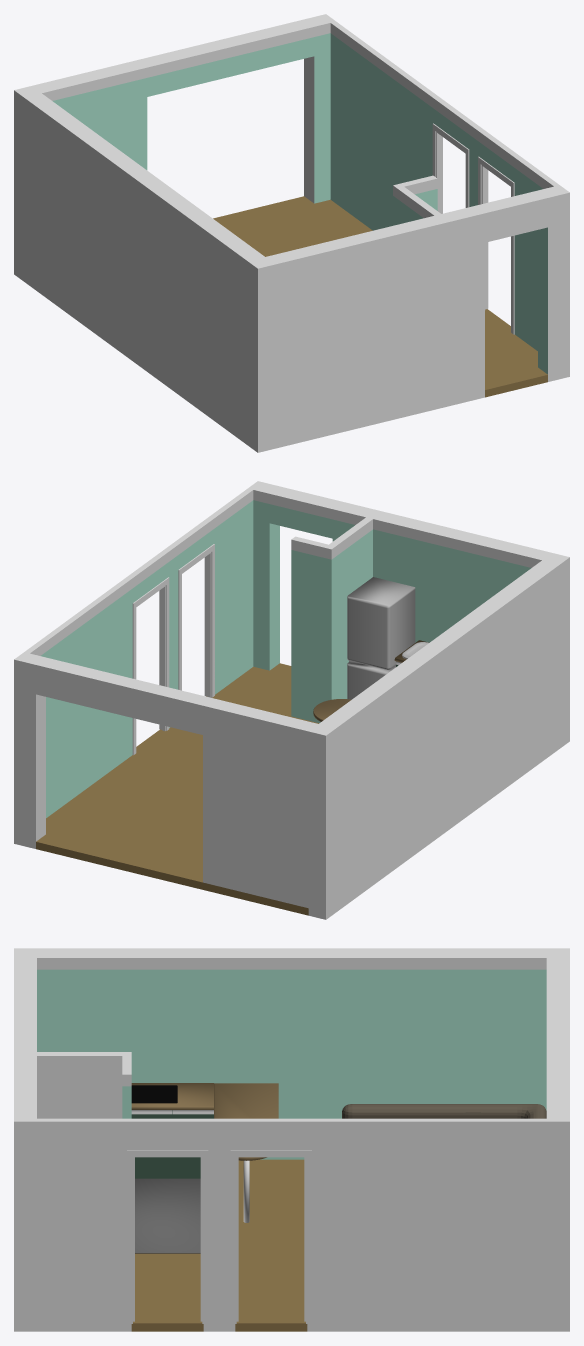
The model's file is Living1.fbx.
3 renders of one model, top to bottom at view 1: azimuth 30°, elevation 25°; view 2: azimuth 150°, elevation 25°; view 3: azimuth 270°, elevation 25°, orthographic. The views are drawn at different scales.
Parts seen in each view (by area): view 1: Flat.001, DoorFrameBedroom.001, DoorFrameBedroom.002; view 2: Flat.001, Fridge.001, DoorFrameBedroom.001, DoorFrameBedroom.002; view 3: Flat.001, KitchenFloor.001, DoorFrameBedroom.001, DoorFrameBedroom.002, Couch.001, Table.001, Kitchen1.001, KitchenBasDoor3.002, Plane.001, KitchenBasDoor3.003.
Boxes of the visible parts, x1,y1,x2,y2 form: Flat.001: (14, 14, 569, 452); DoorFrameBedroom.001: (478, 156, 514, 334); DoorFrameBedroom.002: (432, 123, 469, 213); Flat.001: (14, 481, 569, 919); Fridge.001: (347, 577, 415, 699); DoorFrameBedroom.001: (178, 544, 214, 697); DoorFrameBedroom.002: (132, 577, 169, 755); Flat.001: (14, 948, 569, 1331); KitchenFloor.001: (135, 1178, 200, 1253); DoorFrameBedroom.001: (127, 1150, 208, 1323); DoorFrameBedroom.002: (230, 1150, 311, 1323); Couch.001: (342, 1104, 546, 1118); Table.001: (214, 1083, 278, 1160); Kitchen1.001: (131, 1083, 213, 1109); KitchenBasDoor3.002: (131, 1110, 172, 1172); Plane.001: (131, 1085, 177, 1103); KitchenBasDoor3.003: (173, 1110, 213, 1172).
Bounding box in the file's own units: 4446 × 2500 × 6000.
